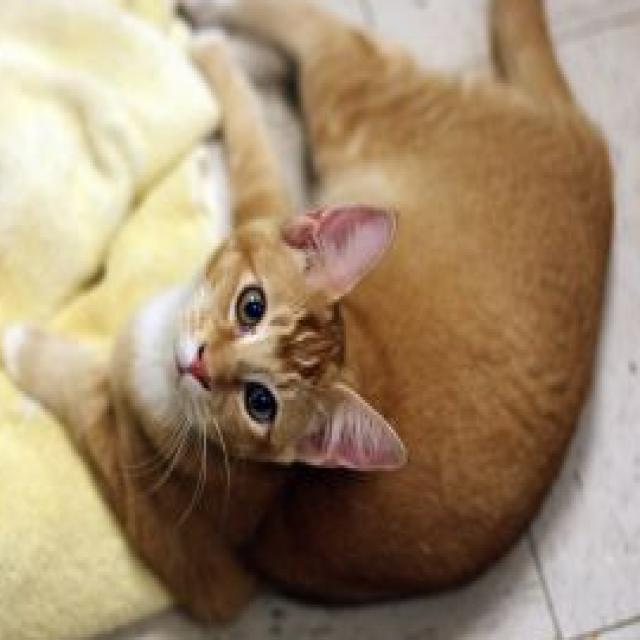Abyssinian: (0, 0, 619, 631)
